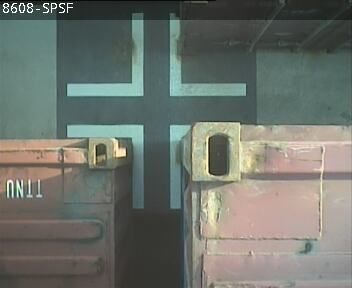groundmarker_1: (66, 12, 246, 96), (66, 123, 188, 209)
